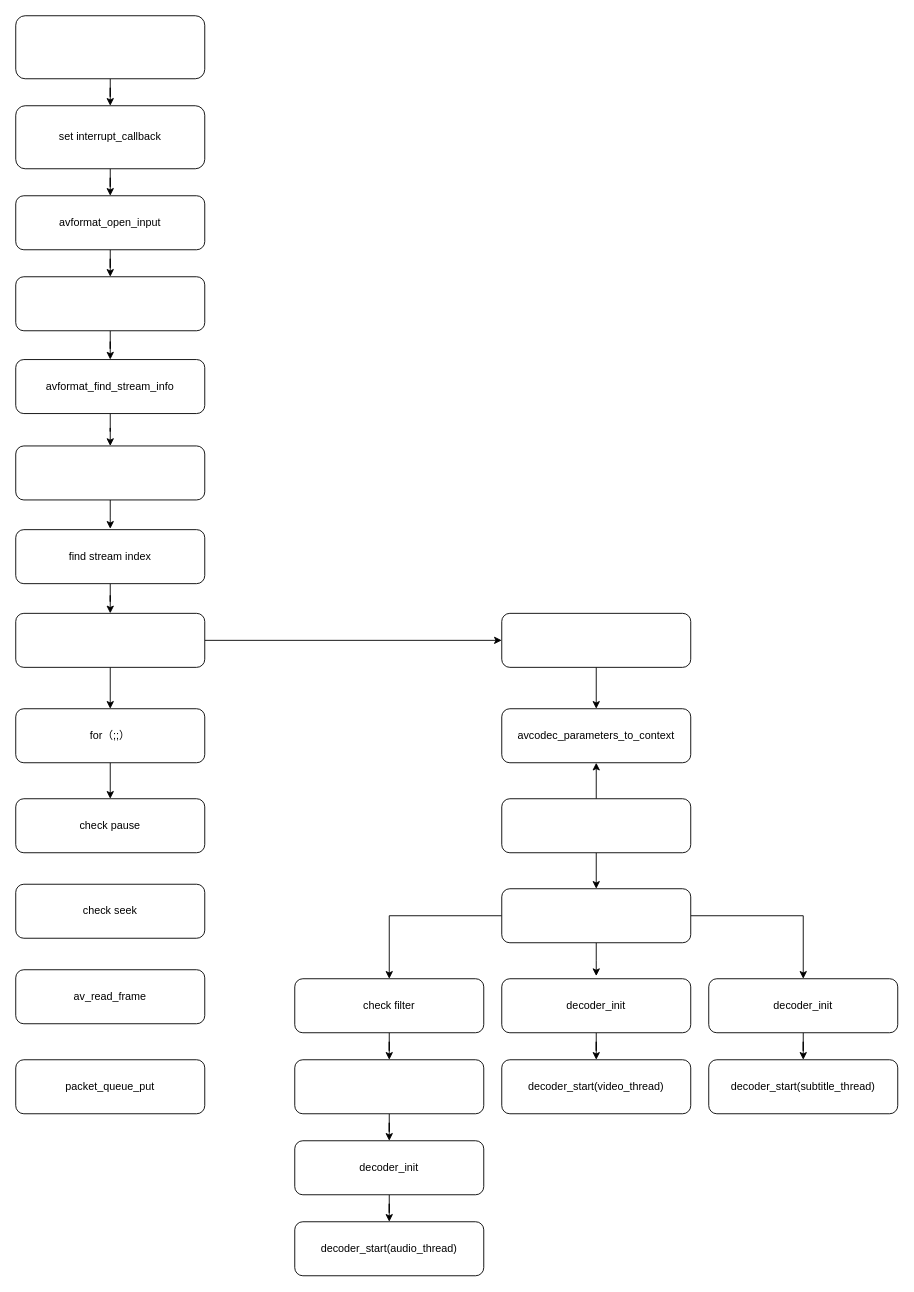
The diagram is 914 pixels wide and 1292 high, and some of its shapes have lost their labels. Each missing label, with the box of its shape:
audio_open: (294, 1059, 484, 1114)
av_format_inject_global_side_data: (15, 276, 205, 331)
avcodec_alloc_context3: (501, 612, 691, 667)
avcodec_find_decoder: (501, 798, 691, 853)
avcodec_open2,: (501, 888, 691, 943)
avformat_alloc_context: (15, 15, 205, 79)
check start_time: (15, 445, 205, 500)
stream_component_open: (15, 612, 205, 667)
